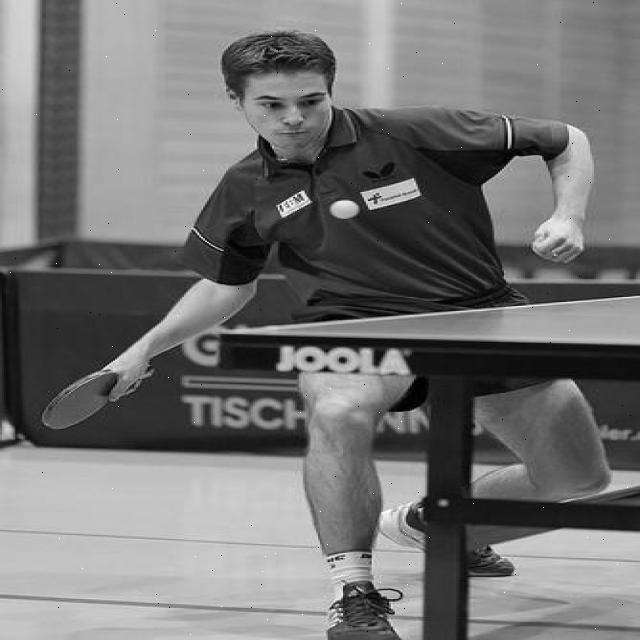ping-pong-ball: (330, 198, 360, 220)
